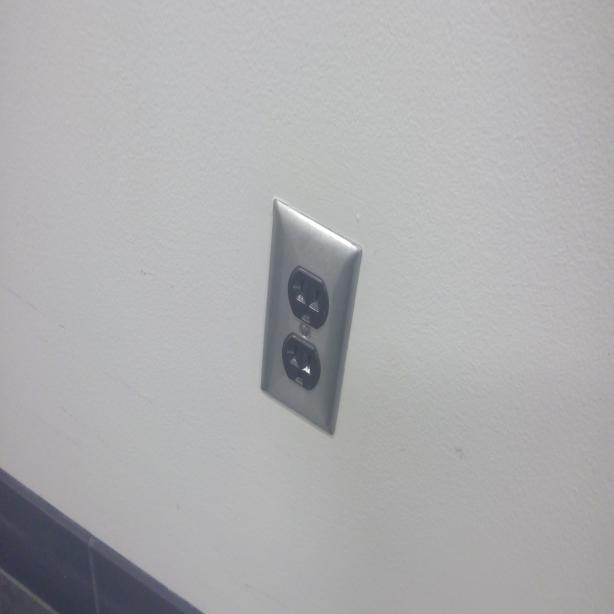typeb: (287, 261, 328, 327), (283, 334, 321, 393)
